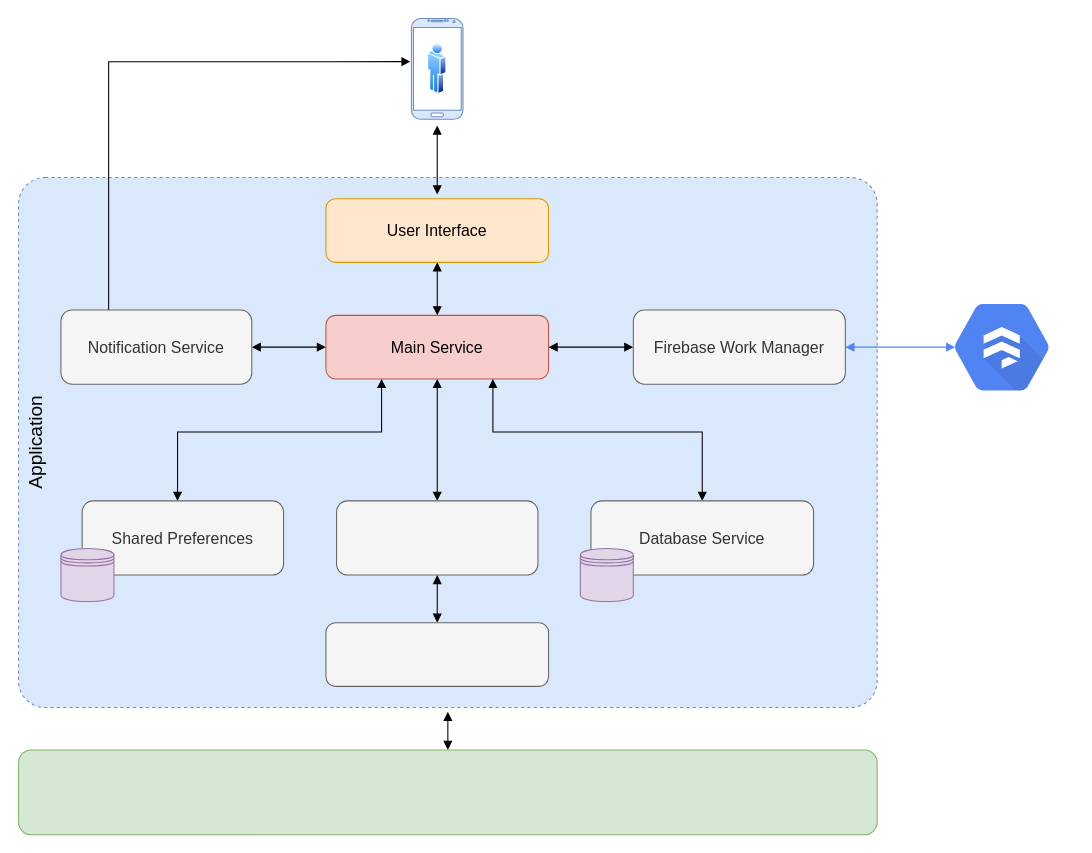
Image size: 1092x853. Some labels were removed from this diagram. Each missing label, with the centre of its shape:
"Android Platform Architecture" goes at (x=447, y=792).
"BLE Service" goes at (x=436, y=537).
"Cloud Firestore" goes at (x=1001, y=346).
"Machine Learning Service" goes at (x=437, y=654).
